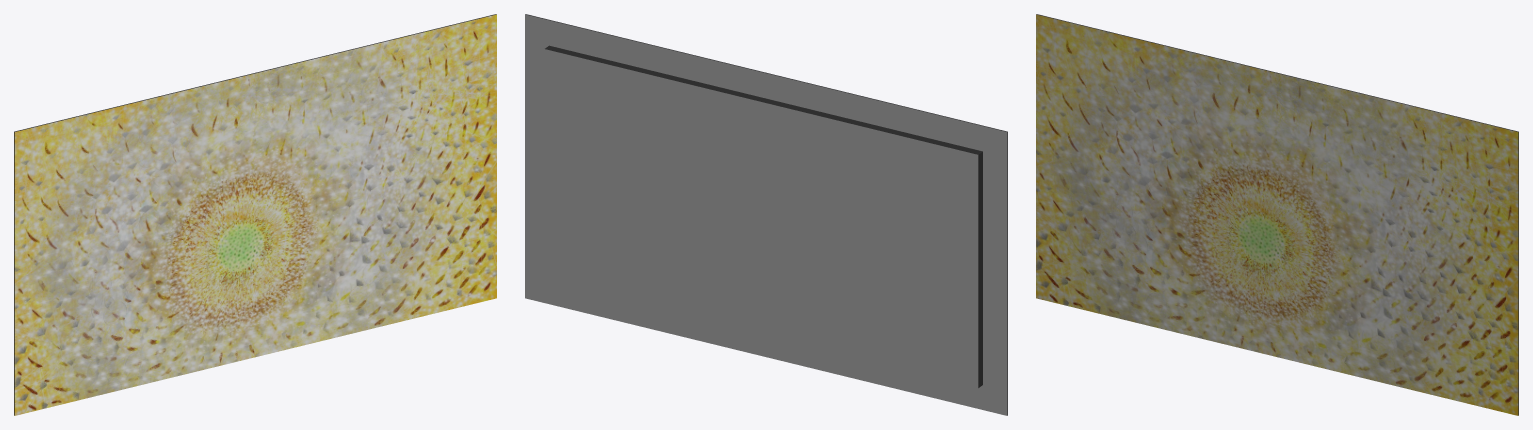
File: hz005_grand_dibond.glb
The picture shows the model from 3 angles, left to right: view 1: azimuth 30°, elevation 25°; view 2: azimuth 150°, elevation 25°; view 3: azimuth 330°, elevation 25°; orthographic projection.
Parts seen in each view (by area): view 1: hz005_grand_dibond; view 2: hz005_grand_dibond; view 3: hz005_grand_dibond.
Boxes of the visible parts, x1=… form: hz005_grand_dibond: x1=14, y1=14, x2=496, y2=415; hz005_grand_dibond: x1=525, y1=14, x2=1007, y2=415; hz005_grand_dibond: x1=1036, y1=14, x2=1518, y2=415.
Bounding box in the file's own units: 1.2 × 0.675 × 0.023.
Materials: 4 (1 with a texture image).
